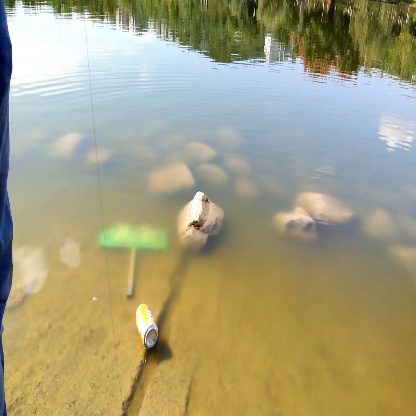bottle: (135, 299, 163, 350)
